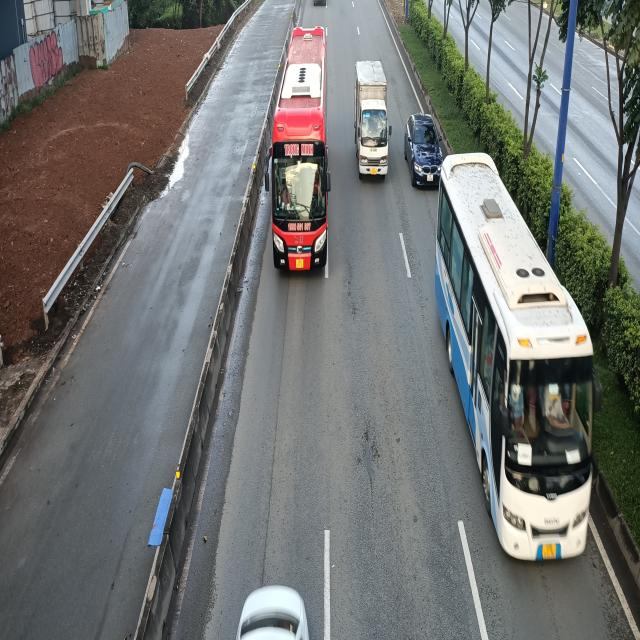car: (405, 110, 445, 187)
coach: (436, 74, 598, 562), (264, 27, 330, 269)
truck: (353, 62, 391, 182)
